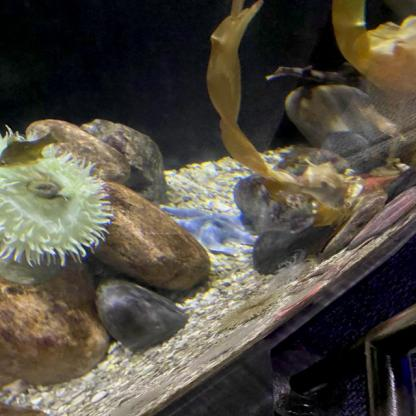fish: (0, 124, 80, 169), (295, 182, 345, 212)
starfish: (158, 204, 258, 254)
